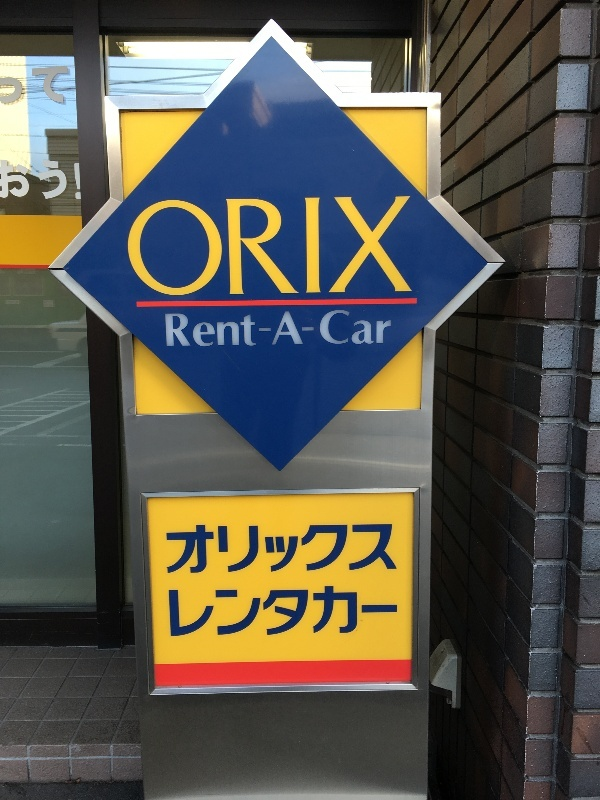text: (129, 197, 144, 297), (145, 197, 160, 297), (161, 197, 176, 297), (177, 197, 192, 297), (193, 197, 208, 297), (209, 197, 224, 297), (225, 197, 240, 297), (241, 197, 256, 297), (257, 197, 272, 297), (273, 197, 288, 297), (289, 197, 304, 297), (305, 197, 320, 297), (321, 197, 336, 297), (337, 197, 352, 297), (353, 197, 368, 297), (369, 197, 384, 297), (385, 197, 400, 297), (401, 197, 412, 297), (177, 585, 192, 638), (193, 585, 208, 638), (209, 585, 224, 638), (225, 585, 240, 638), (241, 585, 256, 638), (257, 585, 272, 638), (273, 585, 288, 638), (289, 585, 304, 638), (305, 585, 320, 638), (321, 585, 336, 638), (337, 585, 352, 638), (353, 585, 368, 638), (369, 585, 384, 638), (177, 525, 192, 575), (193, 525, 208, 575), (209, 525, 224, 575), (225, 525, 240, 575), (241, 525, 256, 575), (257, 525, 272, 575), (273, 525, 288, 575), (289, 525, 304, 575), (305, 525, 320, 575), (321, 525, 336, 575), (337, 525, 352, 575), (353, 525, 368, 575), (369, 525, 384, 575), (385, 585, 398, 638), (65, 157, 81, 199), (1, 157, 16, 199), (17, 157, 32, 199), (33, 157, 48, 199), (49, 157, 64, 199), (385, 525, 397, 575), (177, 311, 192, 348), (193, 311, 208, 348), (209, 311, 224, 348), (225, 311, 240, 348), (241, 311, 256, 348), (257, 311, 272, 348), (273, 311, 288, 348), (289, 311, 304, 348), (305, 311, 320, 348), (321, 311, 336, 348), (337, 311, 352, 348), (353, 311, 368, 348), (369, 311, 384, 348), (1, 67, 16, 104), (17, 67, 32, 104), (33, 67, 48, 104), (49, 67, 64, 104), (166, 525, 176, 575), (169, 585, 176, 638), (166, 311, 176, 348), (385, 311, 392, 348), (65, 67, 69, 104)
